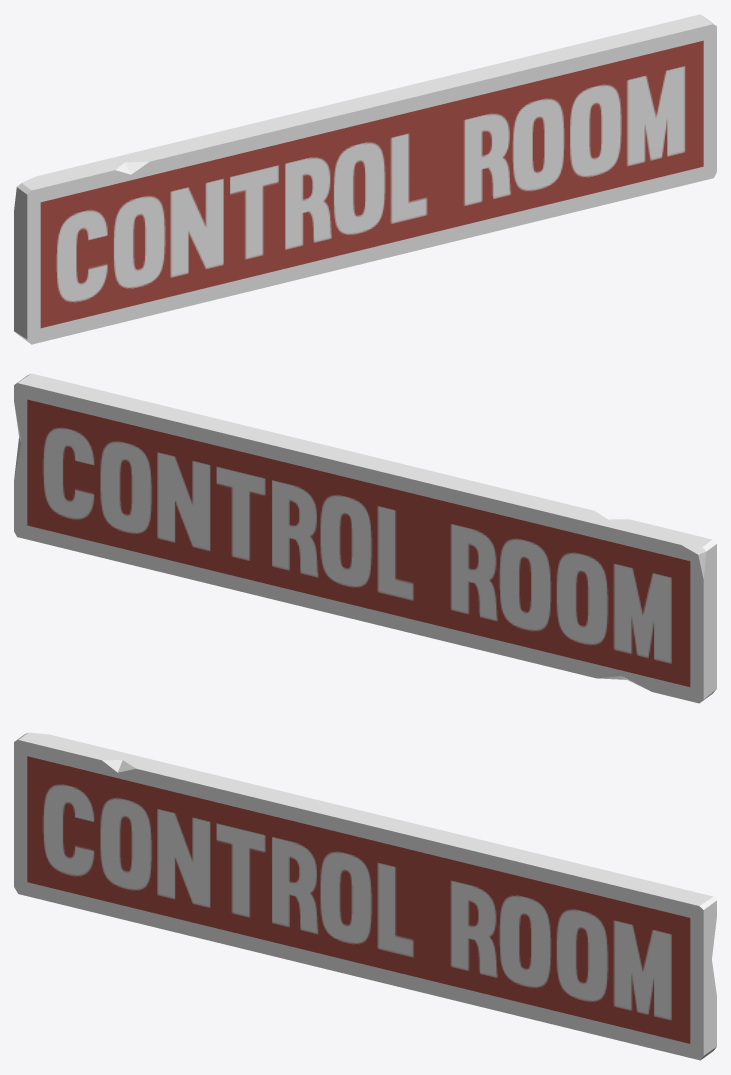
File: SM_Sign_Hydroponics_02.fbx
3 renders of one model, top to bottom at view 1: azimuth 30°, elevation 25°; view 2: azimuth 150°, elevation 25°; view 3: azimuth 330°, elevation 25°, orthographic.
Parts seen in each view (by area): view 1: SM_Sign_Hydroponics_02; view 2: SM_Sign_Hydroponics_02; view 3: SM_Sign_Hydroponics_02.
Part boxes in pixels (x1=…): SM_Sign_Hydroponics_02: x1=14, y1=14, x2=716, y2=344; SM_Sign_Hydroponics_02: x1=14, y1=373, x2=716, y2=703; SM_Sign_Hydroponics_02: x1=14, y1=732, x2=716, y2=1060.
Size of the model in its own units: 430 by 91.8 by 14.42.
Materials: 1 (1 with a texture image).
